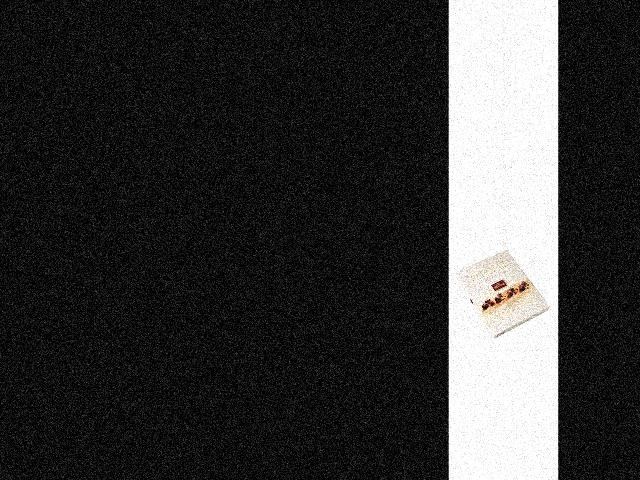chocolate: (455, 251, 556, 340)
